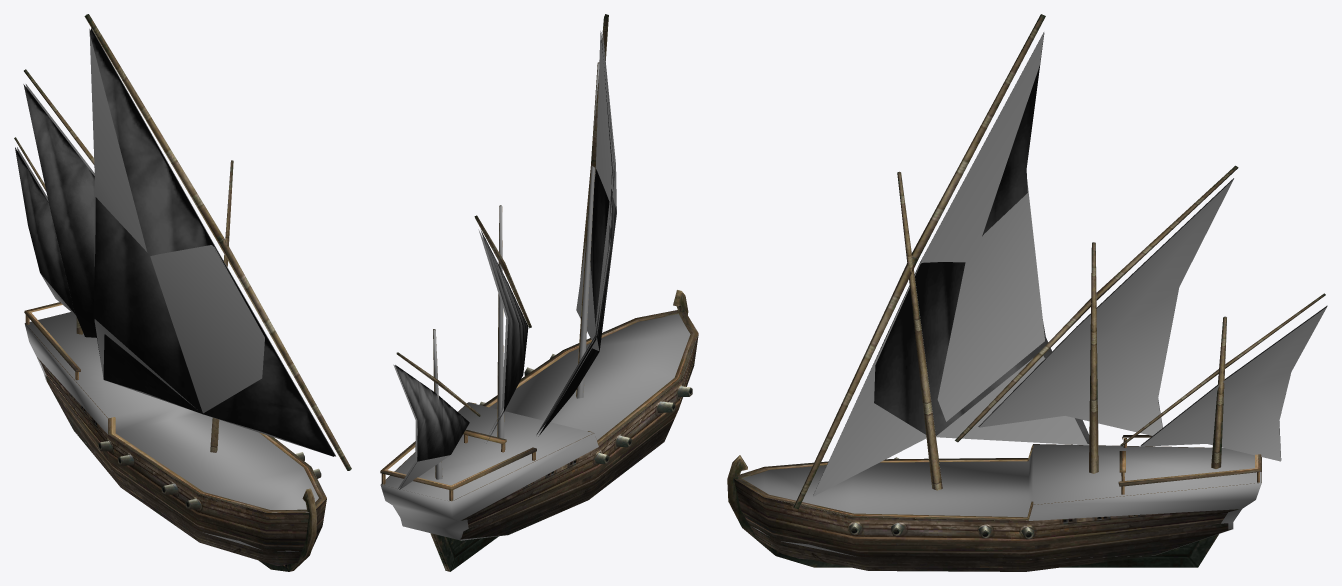
The model's file is F_Ship_01.fbx.
3 renders of one model, left to right at view 1: azimuth 30°, elevation 25°; view 2: azimuth 150°, elevation 25°; view 3: azimuth 270°, elevation 25°, orthographic. The views are drawn at different scales.
Visible parts, largest first — view 1: F_Ship_01_Sail, F_Ship_01_FakeShadow, F_Ship_01; view 2: F_Ship_01_FakeShadow, F_Ship_01, F_Ship_01_Sail; view 3: F_Ship_01_FakeShadow, F_Ship_01, F_Ship_01_Sail.
Part boxes in pixels (left/top/right/bottom): F_Ship_01_Sail: left=15, top=28, right=335, bottom=456; F_Ship_01_FakeShadow: left=17, top=29, right=335, bottom=551; F_Ship_01: left=14, top=14, right=351, bottom=571; F_Ship_01_FakeShadow: left=380, top=31, right=698, bottom=540; F_Ship_01: left=380, top=14, right=698, bottom=571; F_Ship_01_Sail: left=395, top=31, right=616, bottom=489; F_Ship_01_FakeShadow: left=736, top=32, right=1326, bottom=559; F_Ship_01: left=727, top=14, right=1325, bottom=571; F_Ship_01_Sail: left=813, top=32, right=1327, bottom=494.
Bounding box in the file's own units: 0.1873 × 0.5914 × 0.6263.
3 materials, 2 textured.
